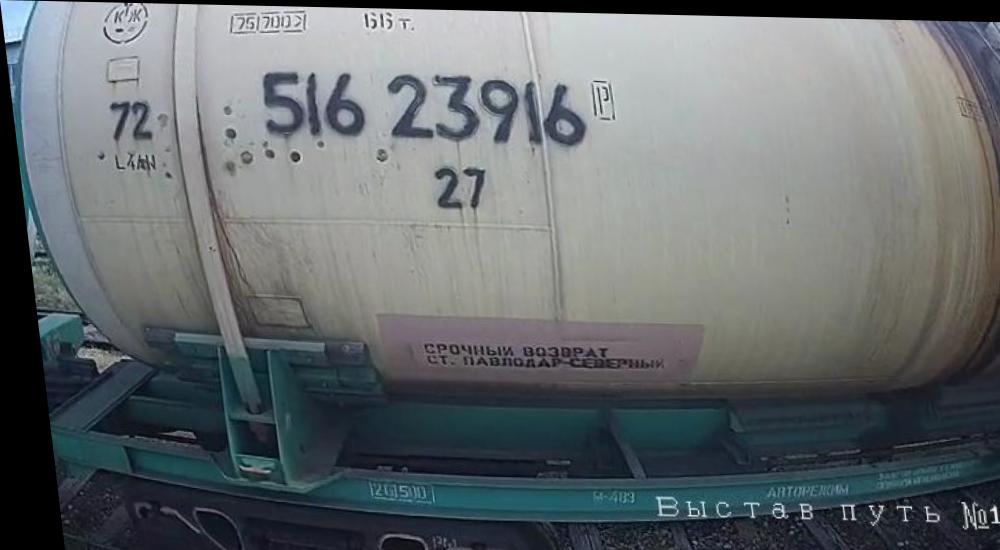Wagon-number: (253, 60, 590, 151)
